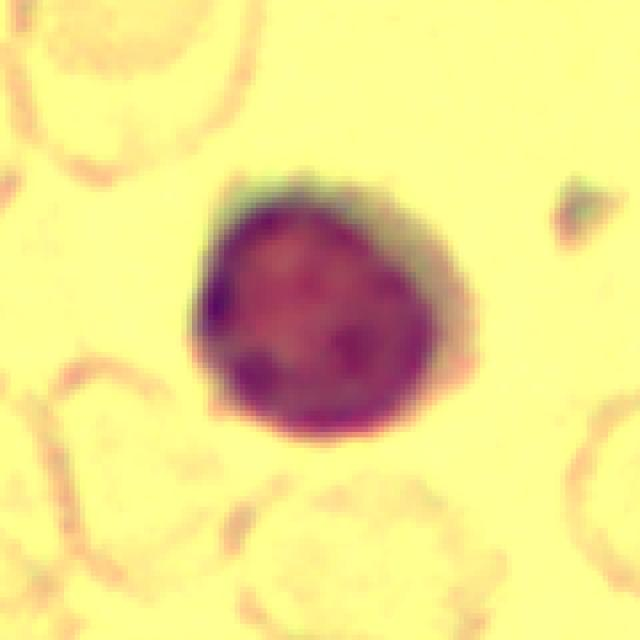WBC: (155, 133, 522, 464)
